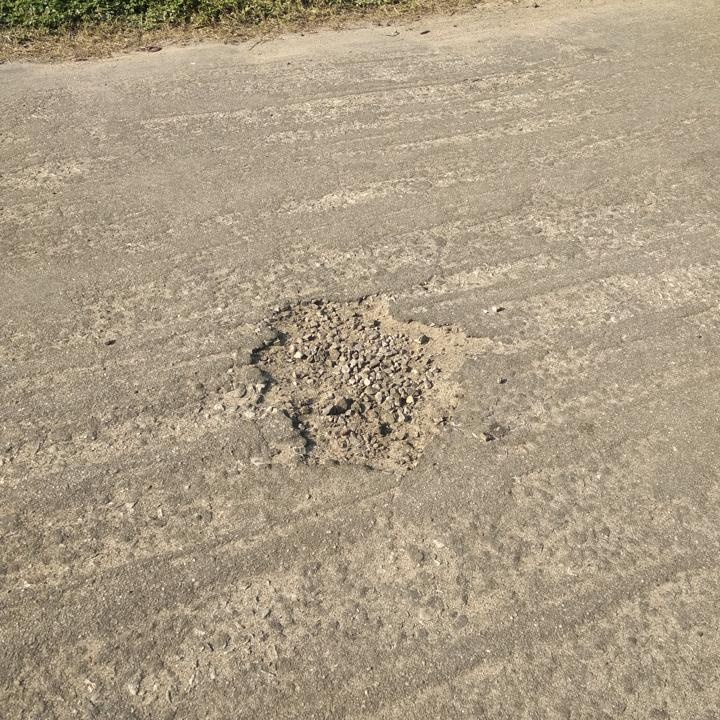pothole: (245, 291, 498, 479)
